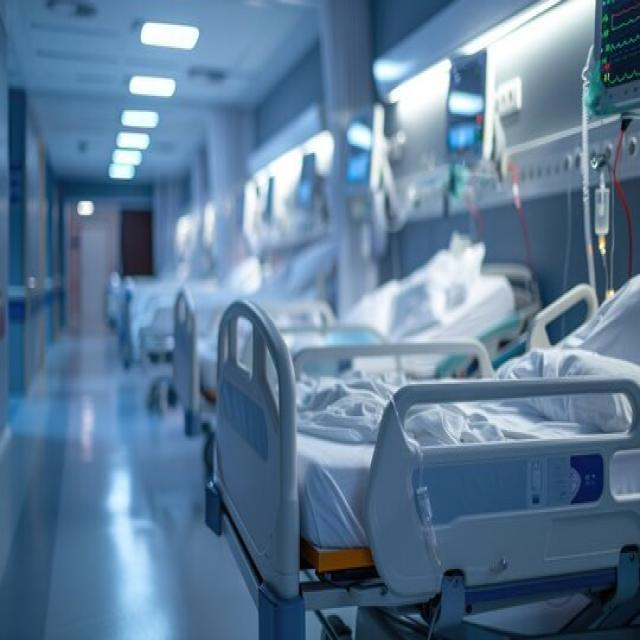Monitor: (585, 0, 640, 133)
bed: (202, 272, 638, 638)
